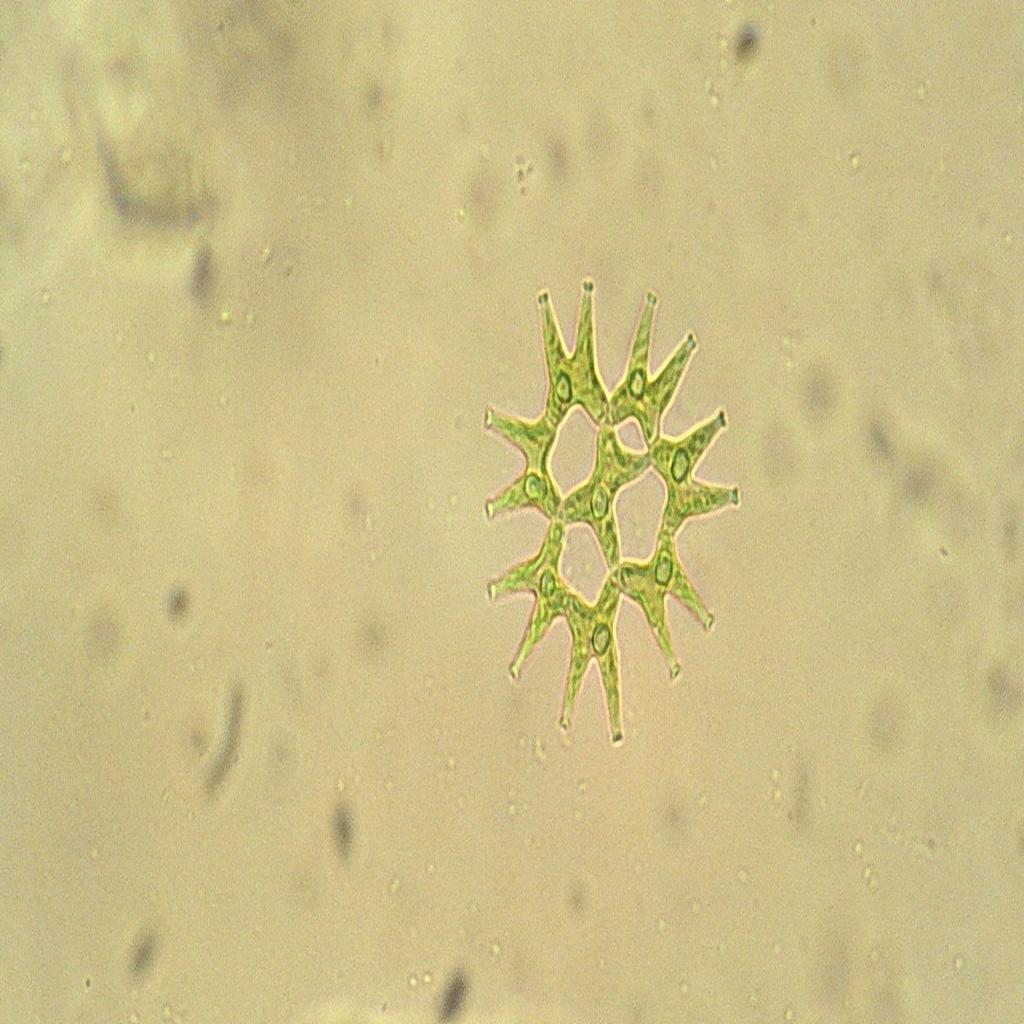Pediastrum_75T: (465, 262, 746, 756)
